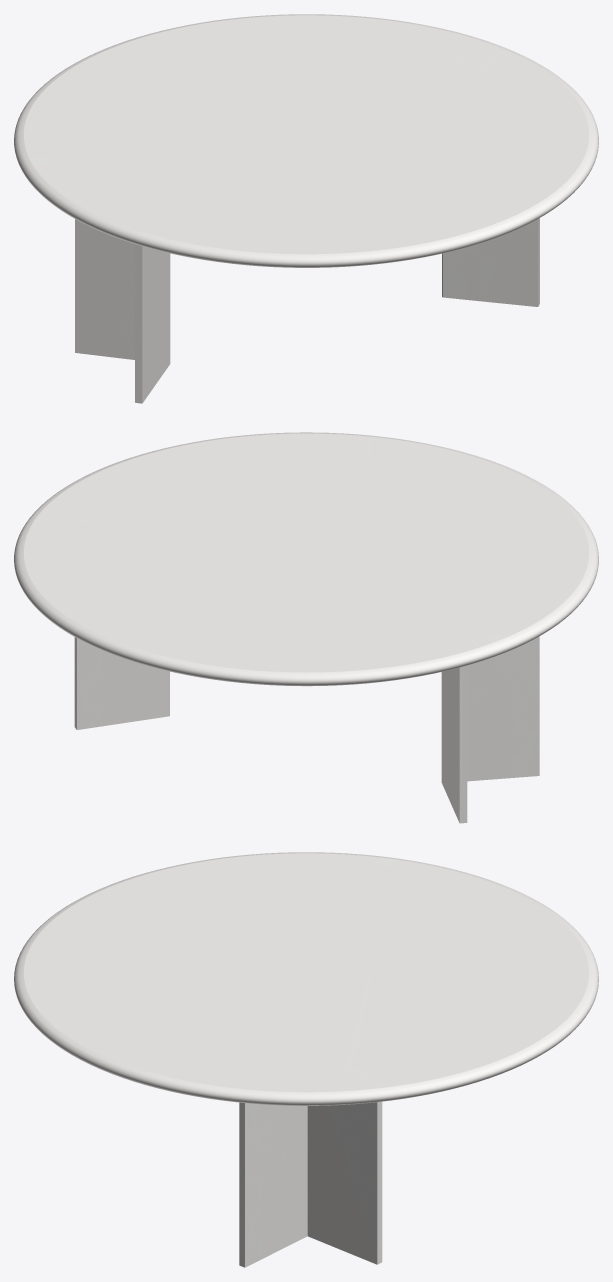
File: purewhite_round_round_valleyv.glb
The picture shows the model from 3 angles, top to bottom: view 1: azimuth 30°, elevation 25°; view 2: azimuth 150°, elevation 25°; view 3: azimuth 270°, elevation 25°; orthographic projection.
Visible parts, largest first — view 1: round_round, valleyv; view 2: round_round, valleyv; view 3: round_round, valleyv.
Part boxes in pixels (x1,y1,x2,y2): round_round: (14, 14, 598, 267); valleyv: (75, 218, 539, 403); round_round: (14, 432, 598, 686); valleyv: (74, 636, 539, 823); round_round: (14, 852, 598, 1105); valleyv: (239, 1101, 382, 1267).
Size of the model in its own units: 6.75 by 2.5 by 6.75.
1 material, 1 textured.
